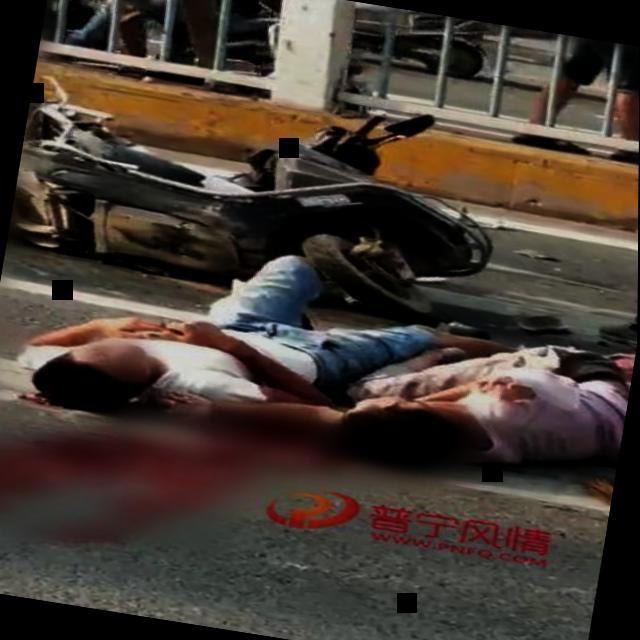Fall-Detected: (317, 275, 638, 498)
